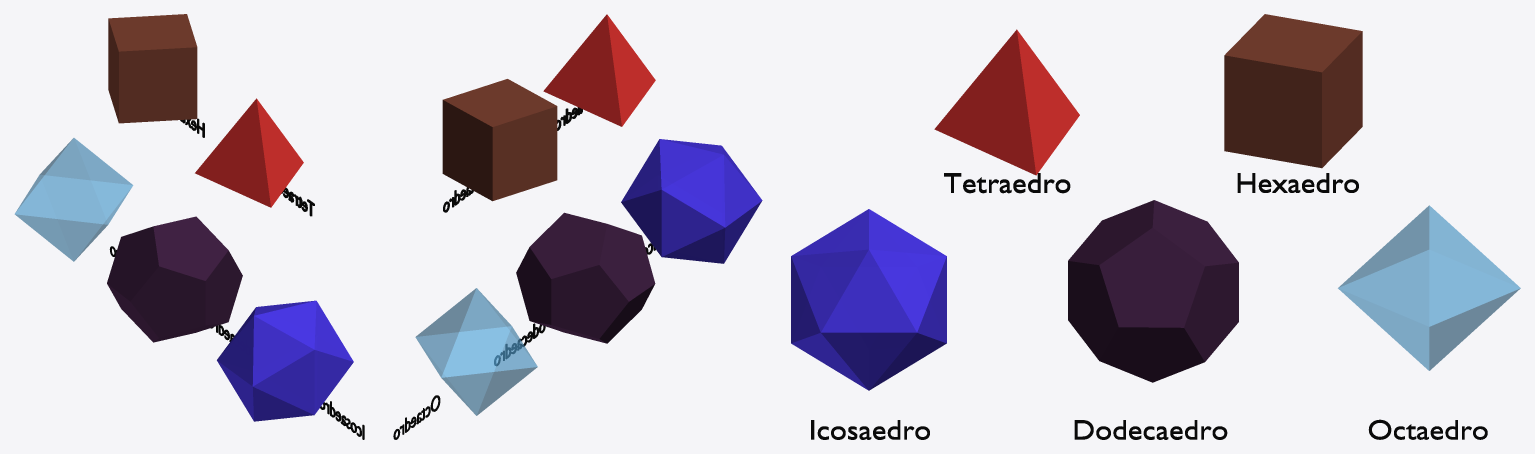
File: solidos_platonicos_historia.glb
The picture shows the model from 3 angles, left to right: view 1: azimuth 30°, elevation 25°; view 2: azimuth 150°, elevation 25°; view 3: azimuth 270°, elevation 25°; orthographic projection. The views are drawn at different scales.
Parts seen in each view (by area): view 1: Solid.006, Solid.002, Solid.004, Solid.005, Solid.003, Text.004; view 2: Solid.006, Solid.002, Solid.004, Solid.005, Solid.003, Text.003, Text.002; view 3: Solid.006, Solid.002, Solid.004, Solid.005, Solid.003, Text.003, Text.001, Text, Text.004, Text.002.
Boxes of the visible parts, box(x1,y1,x2,y2) form: Solid.006: box(107, 216, 242, 342); Solid.002: box(217, 300, 353, 421); Solid.004: box(108, 14, 197, 123); Solid.005: box(14, 138, 133, 261); Solid.003: box(195, 98, 303, 207); Text.004: box(320, 401, 364, 439); Solid.006: box(516, 212, 655, 343); Solid.002: box(621, 139, 762, 263); Solid.004: box(442, 79, 557, 201); Solid.005: box(415, 288, 537, 415); Solid.003: box(543, 14, 655, 126); Text.003: box(494, 323, 545, 365); Text.002: box(393, 395, 440, 439); Solid.006: box(1068, 200, 1238, 382); Solid.002: box(791, 209, 946, 390); Solid.004: box(1224, 14, 1362, 168); Solid.005: box(1338, 205, 1520, 370); Solid.003: box(934, 29, 1079, 175); Text.003: box(1074, 420, 1227, 439); Text.001: box(1237, 173, 1358, 192); Text: box(944, 173, 1070, 193); Text.004: box(811, 420, 929, 439); Text.002: box(1368, 419, 1487, 439).
Size of the model in its own units: 2.39 by 4.7 by 7.97.
